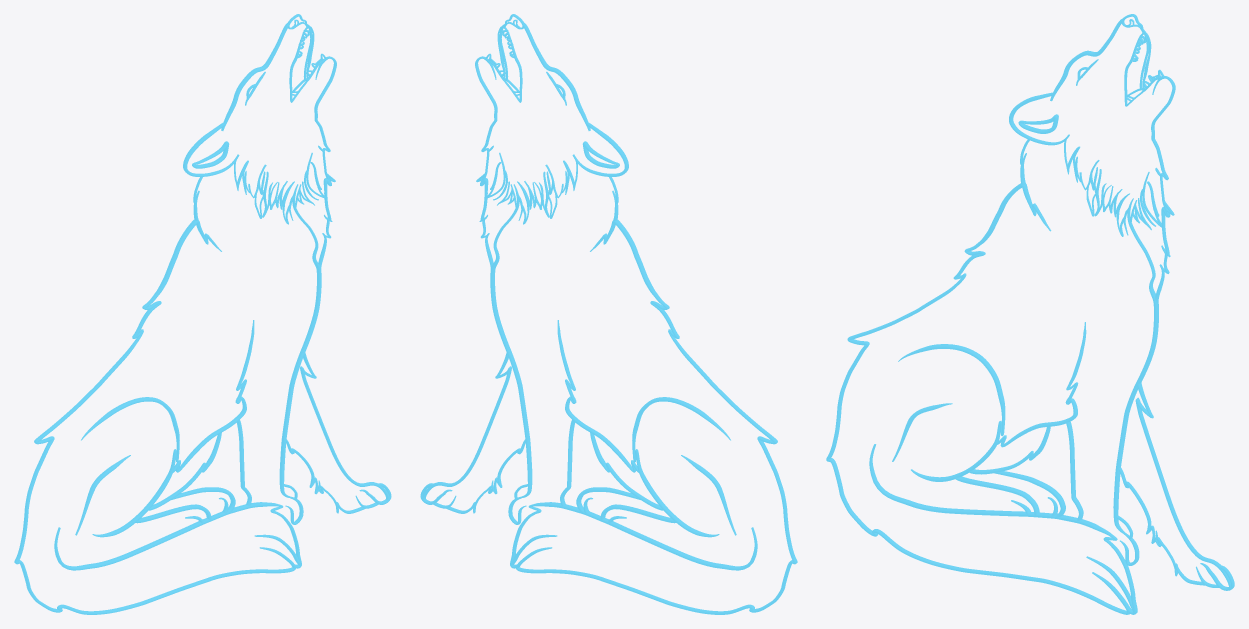
Rendered from wolf-constellation-dhazele.glb.
3 renders of one model, left to right at view 1: azimuth 30°, elevation 25°; view 2: azimuth 150°, elevation 25°; view 3: azimuth 330°, elevation 25°, orthographic. The views are drawn at different scales.
Parts seen in each view (by area): view 1: BezierCurve.001; view 2: BezierCurve.001; view 3: BezierCurve.001.
Part boxes in pixels (x1,y1,x2,y2): BezierCurve.001: (14, 14, 391, 614); BezierCurve.001: (420, 14, 797, 614); BezierCurve.001: (826, 14, 1234, 614).
Size of the model in its own units: 3.39 by 4.78 by 0.0478.
